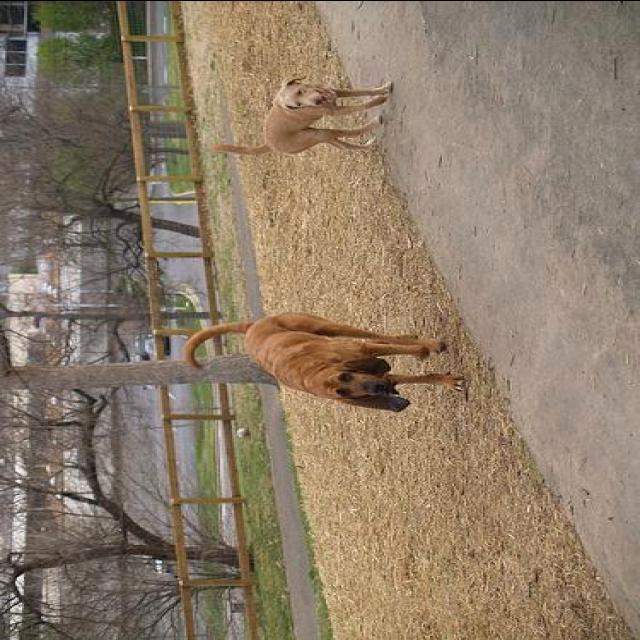bloodhound: (176, 307, 470, 412)
